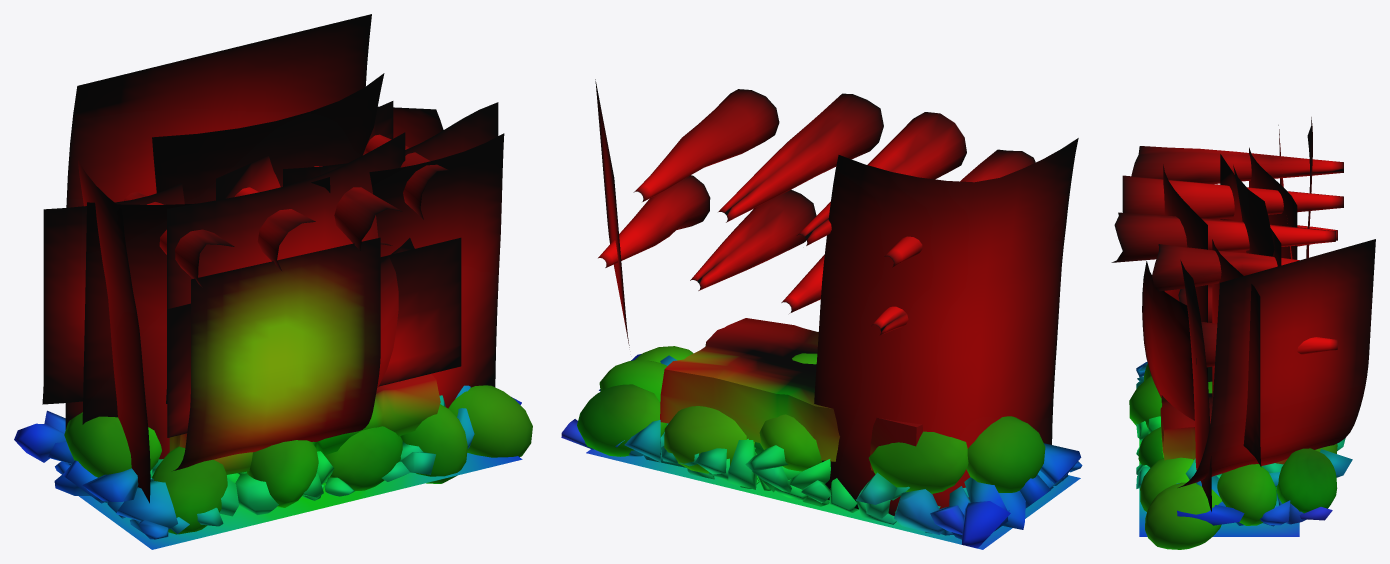
Rendered from fire.glb.
3 views of the same model, side by side, from view 1: azimuth 30°, elevation 25°; view 2: azimuth 150°, elevation 25°; view 3: azimuth 270°, elevation 25° (orthographic). The views are drawn at different scales.
Parts seen in each view (by area): view 1: wood_fire, coal_fire, coal, ember_bed, fire_explosion_01, fire_explosion_03, log, fire_explosion_02, fire_cylinder_06, fire_cylinder_01, fire_cylinder_02, fire_cylinder_07; view 2: wood_fire, coal, ember_bed, log, fire_cylinder_06, fire_cylinder_07, fire_cylinder_04, fire_cylinder_02, fire_cylinder_08, fire_cylinder_01, fire_cylinder_05, fire_cylinder_03; view 3: wood_fire, coal, coal_fire, fire_cylinder_01, fire_cylinder_06, ember_bed, fire_cylinder_02, fire_cylinder_07, fire_explosion_02, fire_explosion_01, log, fire_explosion_03 (+1 smaller).
Boxes of the visible parts, <box> form: wood_fire: <box>65,14,461,503</box>; coal_fire: <box>82,73,504,459</box>; coal: <box>64,385,532,534</box>; ember_bed: <box>14,385,522,549</box>; fire_explosion_01: <box>166,132,405,403</box>; fire_explosion_03: <box>42,183,184,404</box>; log: <box>169,374,440,474</box>; fire_explosion_02: <box>283,102,498,186</box>; fire_cylinder_06: <box>314,166,402,250</box>; fire_cylinder_01: <box>124,191,234,288</box>; fire_cylinder_02: <box>235,187,315,270</box>; fire_cylinder_07: <box>365,134,448,219</box>; wood_fire: <box>595,79,1078,515</box>; coal: <box>577,346,1045,493</box>; ember_bed: <box>561,354,1082,549</box>; log: <box>660,318,922,470</box>; fire_cylinder_06: <box>718,93,883,222</box>; fire_cylinder_07: <box>633,89,779,201</box>; fire_cylinder_04: <box>690,189,816,290</box>; fire_cylinder_02: <box>797,112,966,245</box>; fire_cylinder_08: <box>598,175,710,267</box>; fire_cylinder_01: <box>884,149,1035,267</box>; fire_cylinder_05: <box>781,254,824,313</box>; fire_cylinder_03: <box>871,306,908,335</box>; wood_fire: <box>1178,117,1375,487</box>; coal: <box>1129,363,1337,549</box>; coal_fire: <box>1142,165,1274,511</box>; fire_cylinder_01: <box>1131,146,1343,183</box>; fire_cylinder_06: <box>1111,212,1335,262</box>; ember_bed: <box>1136,362,1352,536</box>; fire_cylinder_02: <box>1122,175,1343,219</box>; fire_cylinder_07: <box>1152,244,1299,291</box>; fire_explosion_02: <box>1212,239,1261,466</box>; fire_explosion_01: <box>1163,164,1208,392</box>; log: <box>1160,366,1287,464</box>; fire_explosion_03: <box>1249,147,1297,259</box>.
Size of the model in its own units: 0.4178 by 0.3811 by 0.2435.
